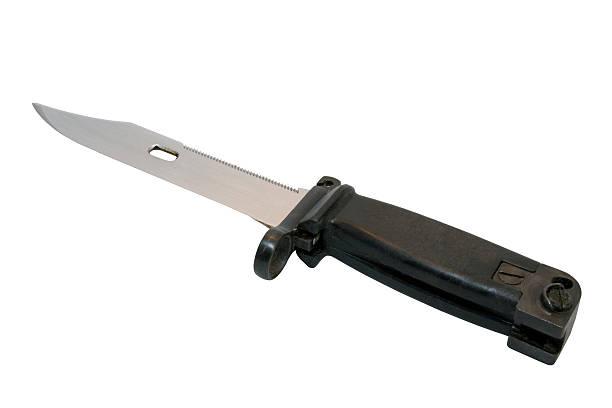knife: (26, 95, 585, 371)
